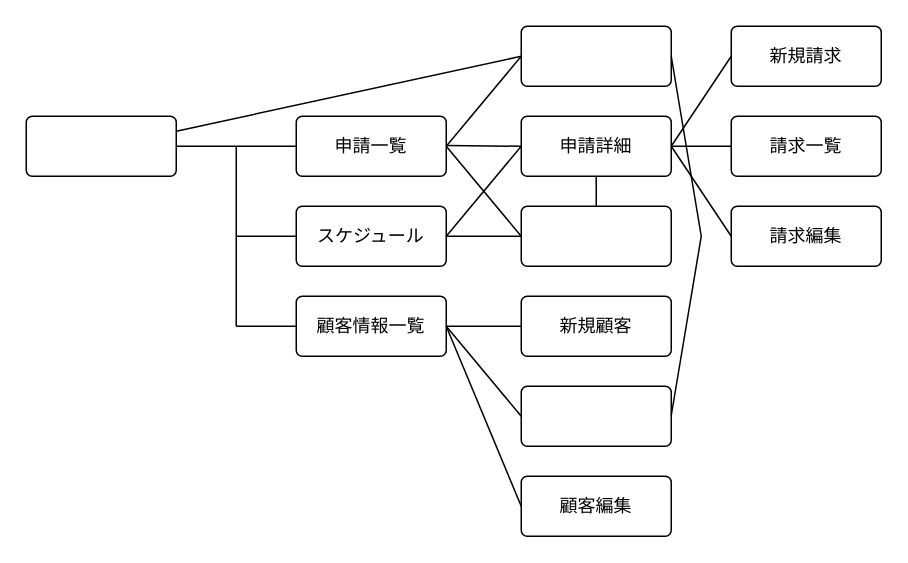
Some shapes in this 908 by 563 pixel diagram are drawn without their labels. The shapes that lost their labels are listed below. From the top down, each one's centre as x and y in pixels, then its label:
[595,55]: 新規申請
[100,145]: ダッシュボード
[595,235]: 申請編集
[595,415]: 顧客詳細
